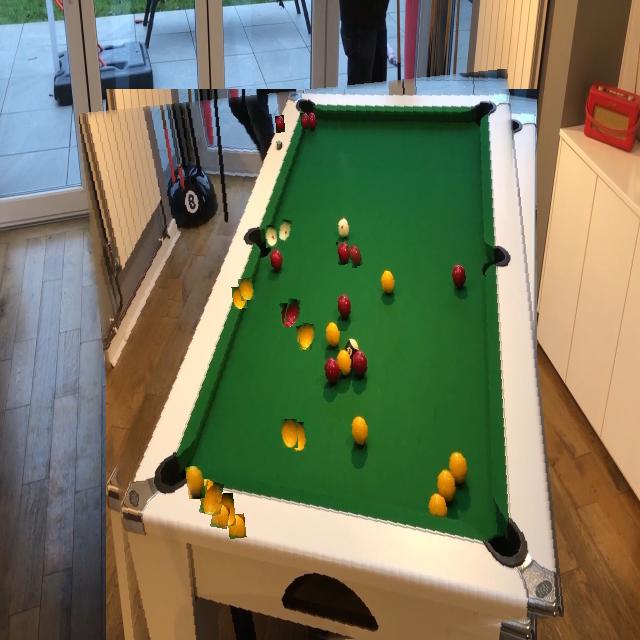Ball: (201, 481, 222, 516), (186, 466, 205, 499), (303, 358, 321, 385), (282, 419, 298, 448), (275, 354, 292, 381), (211, 504, 230, 528), (285, 298, 301, 324), (290, 352, 306, 378), (299, 323, 315, 348), (239, 277, 255, 301), (348, 244, 363, 268), (168, 279, 182, 302), (278, 220, 292, 242), (281, 342, 296, 358), (301, 112, 310, 129)
Billiard table: (92, 78, 550, 640)
